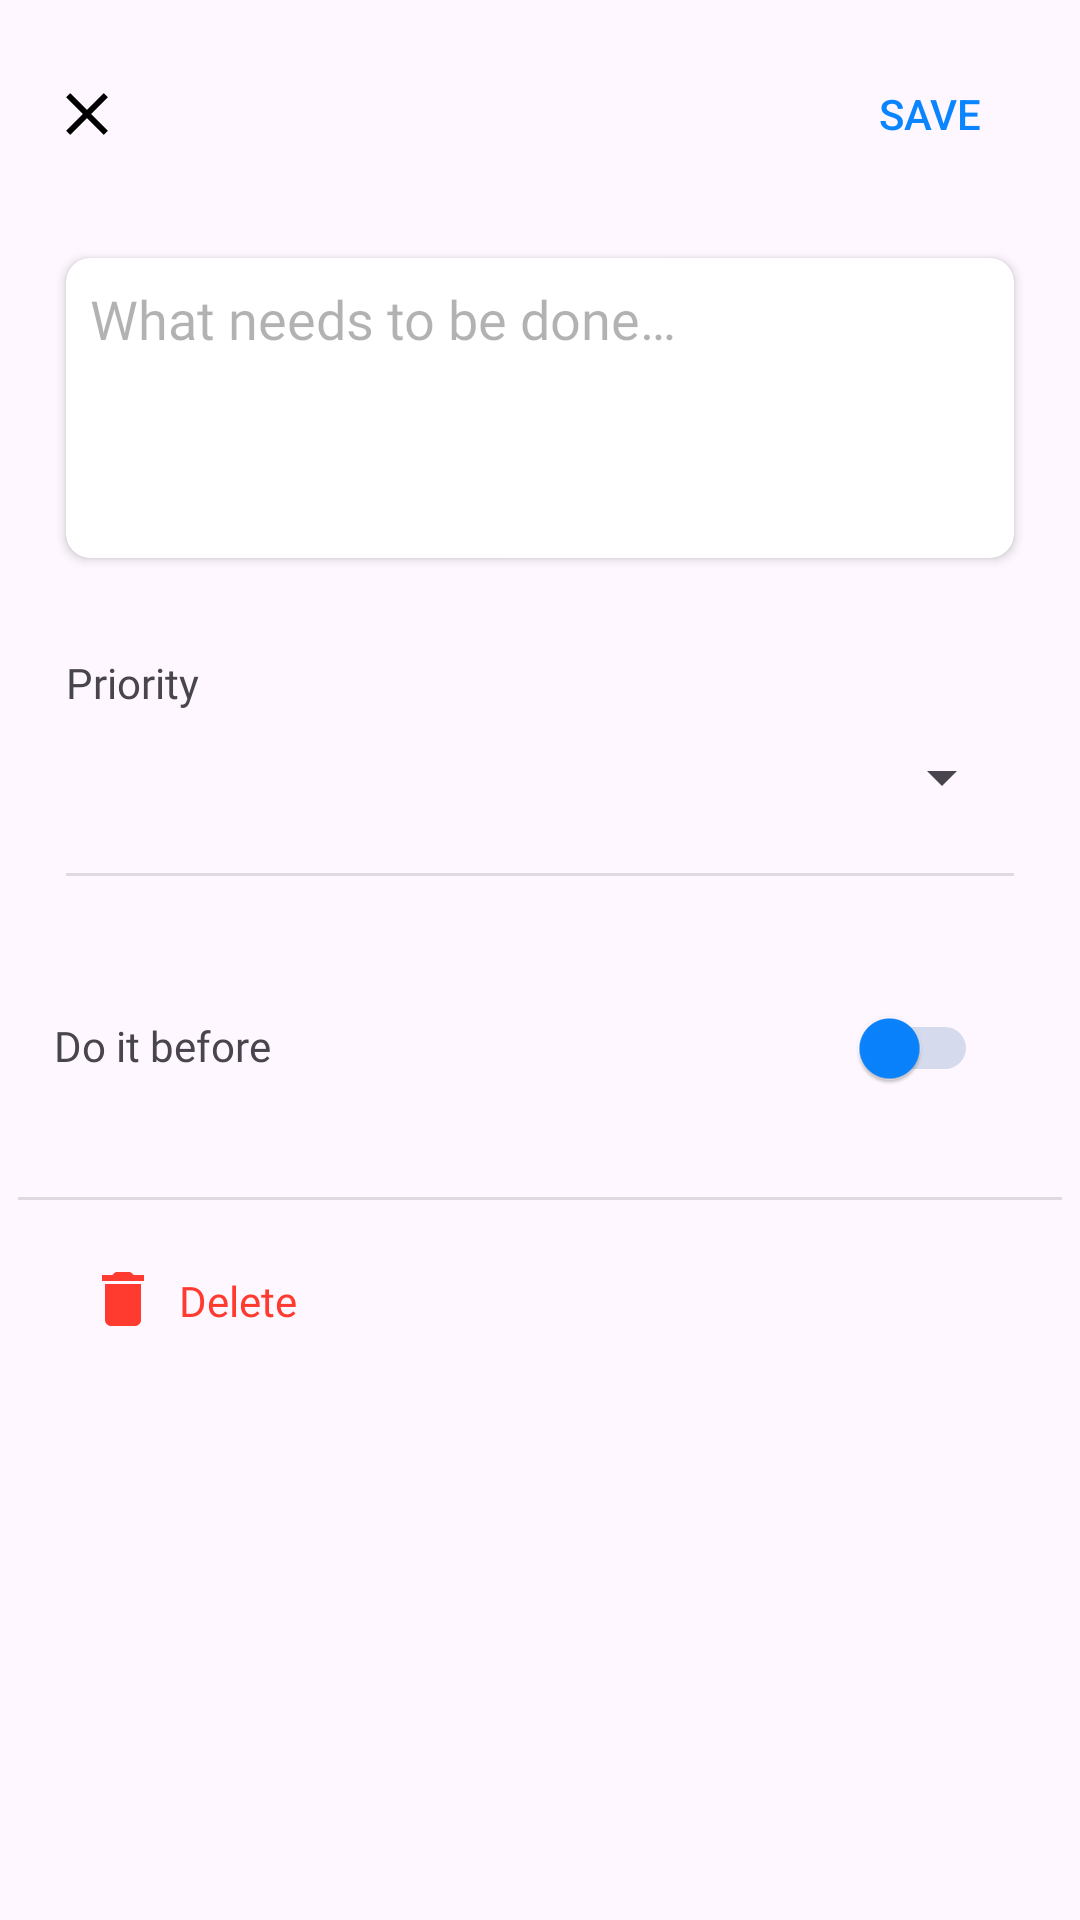

Icon click points for this 1080x1920 phone screenshot, format (x=x, y=y):
Cancel: (x=87, y=114)
